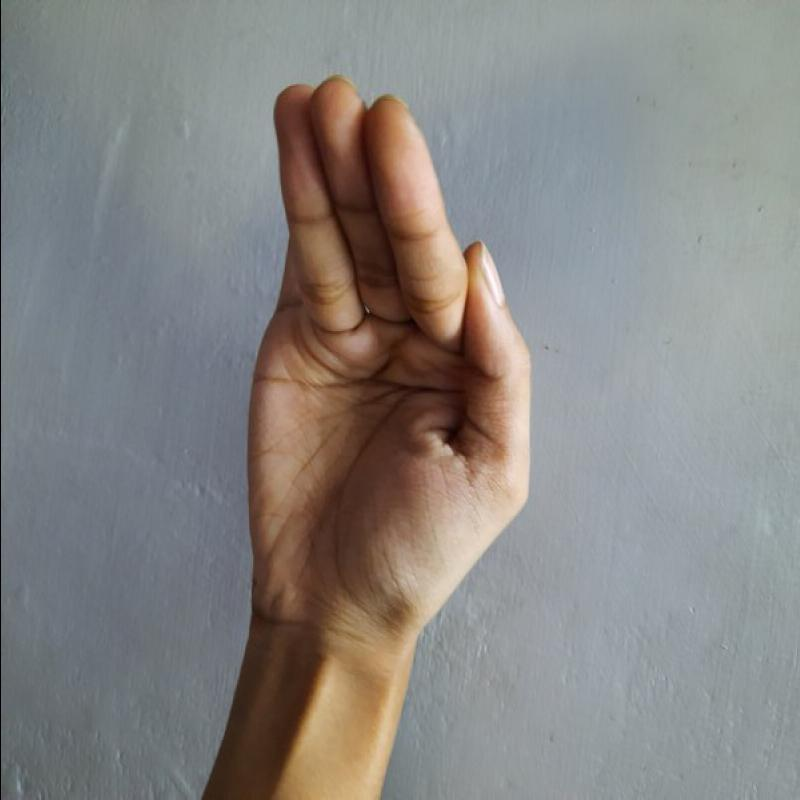Kartharee Mukham: (194, 68, 563, 649)
